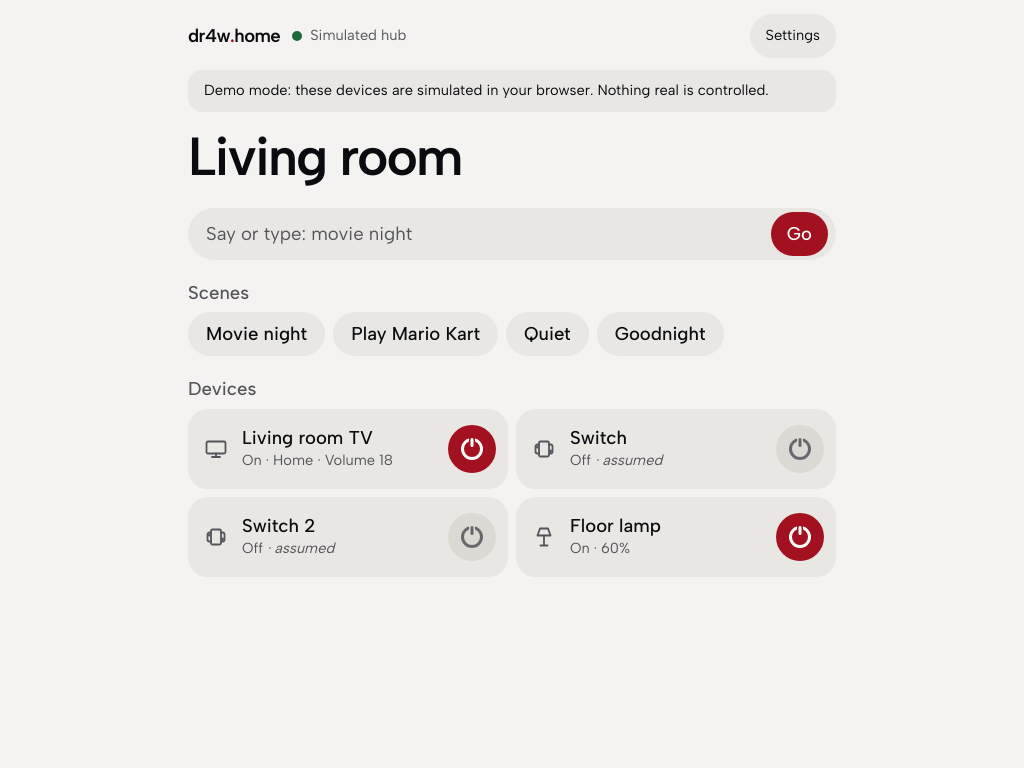
Scenario: runs "movie night" from the command bar
The image size is (1024, 768).
Expected: the text "On · Home · Volume 18" is shown, [242, 451, 393, 469]
In the dropdown: (483, 234) [206, 208, 761, 259], type "movie night"
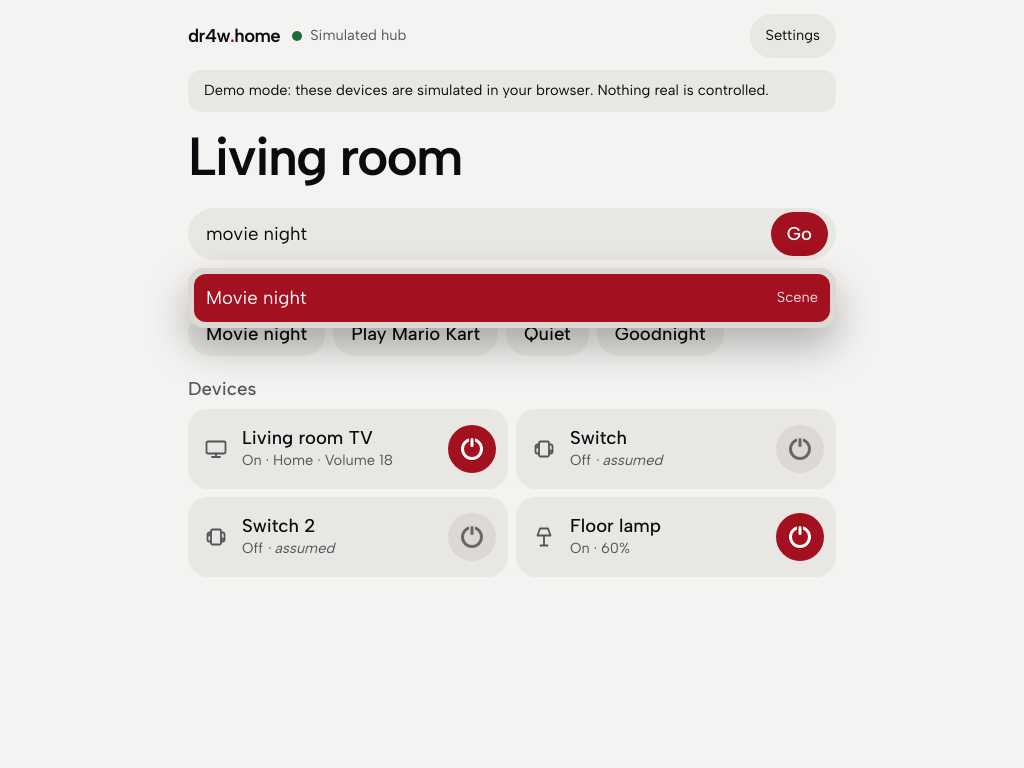
Submit the form, box [188, 208, 836, 260]
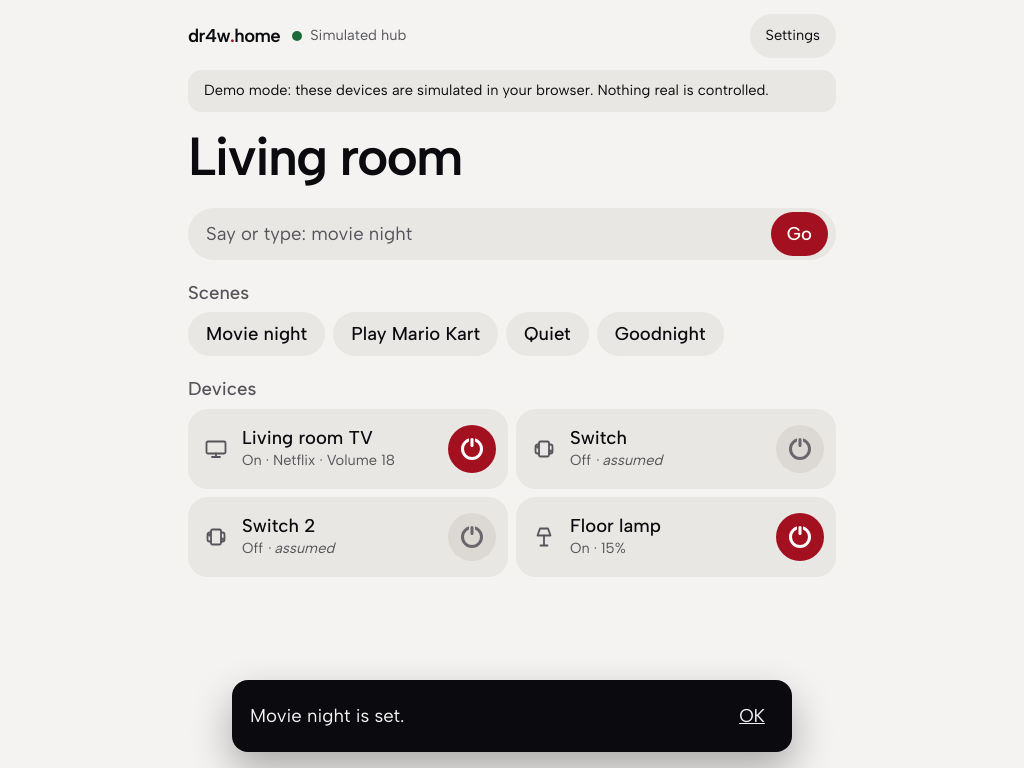
Expected: the text "Movie night is set." is shown, [250, 702, 404, 730]
Expected: the text "On · Netflix · Volume 18" is shown, [242, 451, 395, 469]
